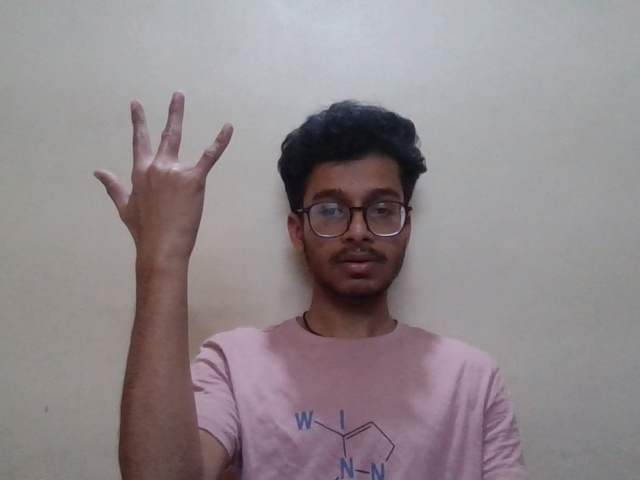G: (97, 93, 246, 266)
